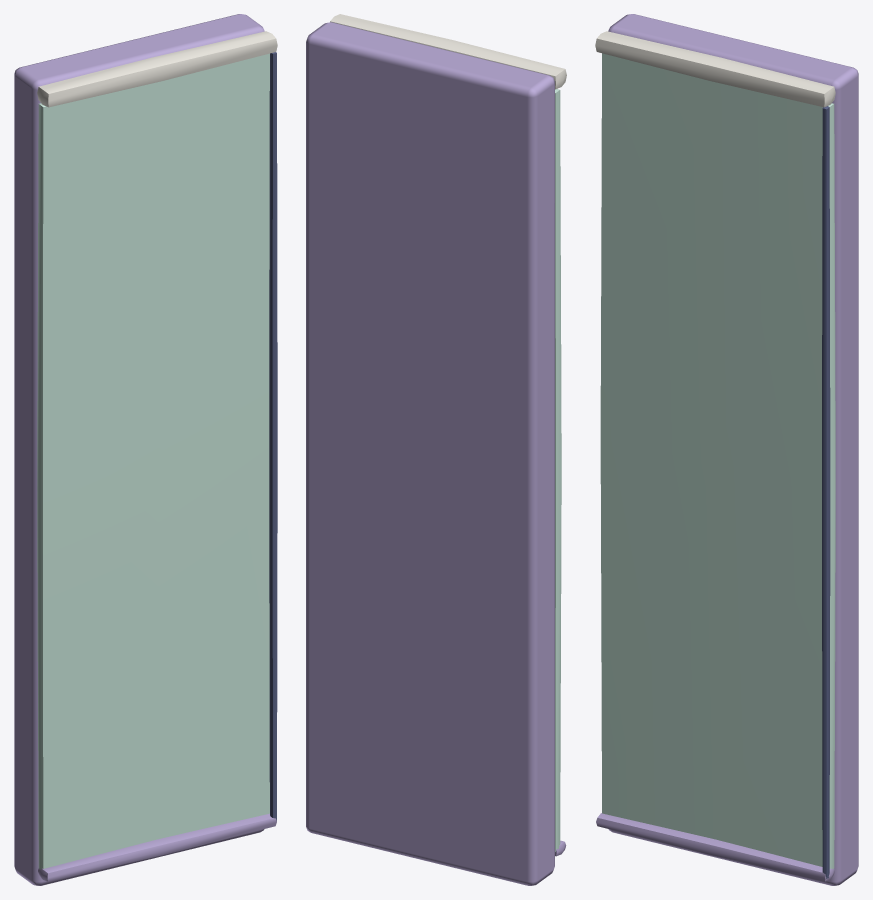
File: wall-blind.glb
3 views of the same model, side by side, from view 1: azimuth 30°, elevation 25°; view 2: azimuth 150°, elevation 25°; view 3: azimuth 330°, elevation 25° (orthographic).
Parts seen in each view (by area): view 1: part (×4), panel-gap; view 2: part (×3); view 3: part (×4), panel-gap.
Boxes of the visible parts, x1,y1,x2,y2 form: part (×4): (14, 14, 277, 885); panel-gap: (269, 52, 277, 820); part (×3): (306, 14, 566, 885); part (×4): (595, 14, 858, 885); panel-gap: (822, 106, 830, 878).
Size of the model in its own units: 1 by 3.3 by 0.27.
1 material, 1 textured.
